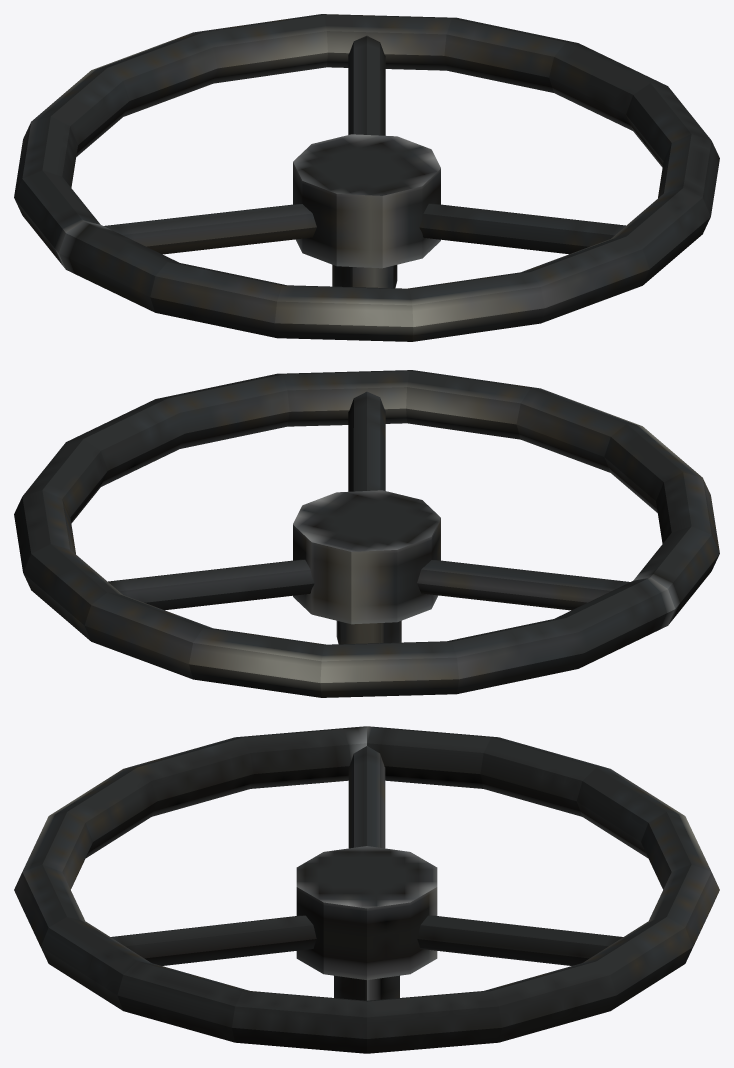
The model's file is 排污阀.obj.
3 renders of one model, top to bottom at view 1: azimuth 30°, elevation 25°; view 2: azimuth 150°, elevation 25°; view 3: azimuth 270°, elevation 25°, orthographic.
Visible parts, largest first — view 1: default011; view 2: default011; view 3: default011.
Part boxes in pixels (box(x1,y1,x2,y2)): default011: box(14, 14, 719, 341); default011: box(14, 370, 719, 697); default011: box(14, 726, 719, 1053).
Bounding box in the file's own units: 2.08 × 0.4375 × 2.08.
